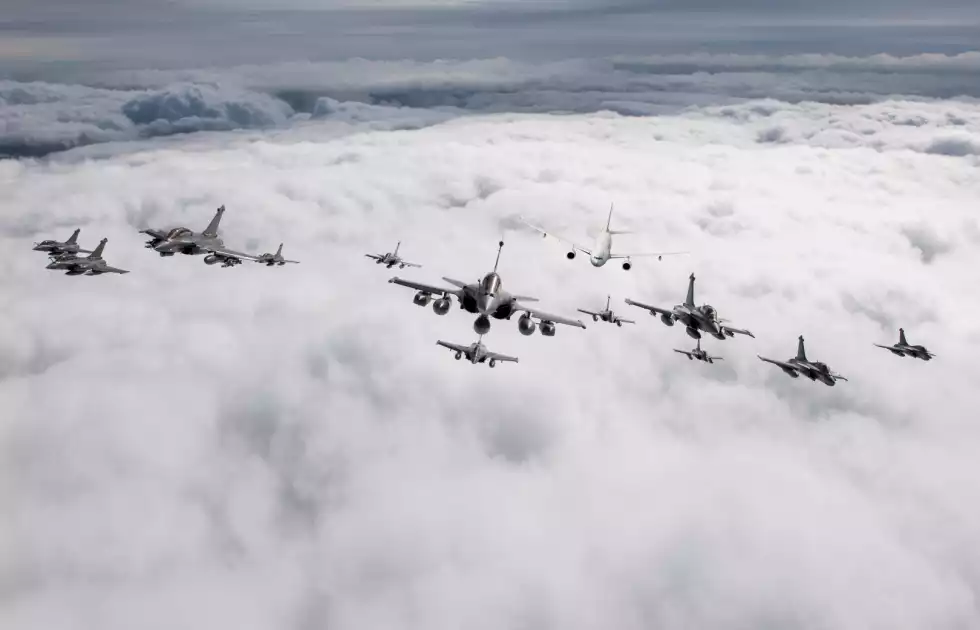Rafale: (387, 239, 586, 342), (625, 272, 758, 344), (138, 205, 257, 265), (756, 334, 847, 385), (45, 238, 132, 276), (434, 336, 521, 369), (575, 293, 637, 331), (871, 327, 936, 360), (365, 240, 424, 269), (671, 336, 726, 366), (32, 228, 86, 256), (251, 242, 301, 268)
